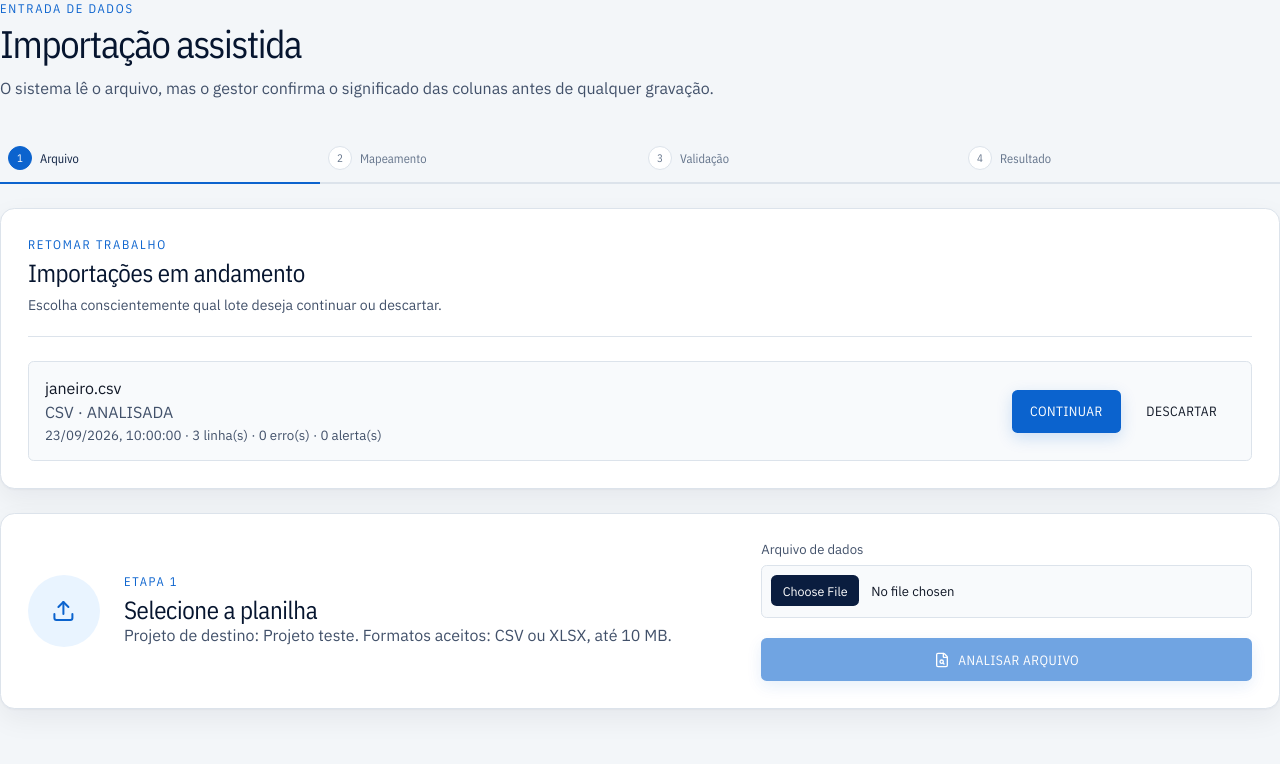
Test: retomada visual da importação › descarta somente após confirmação e remove o lote da lista
This screenshot has width=1280, height=764.
Click the button "DESCARTAR" at (1182, 411), box [1128,390,1235,433]
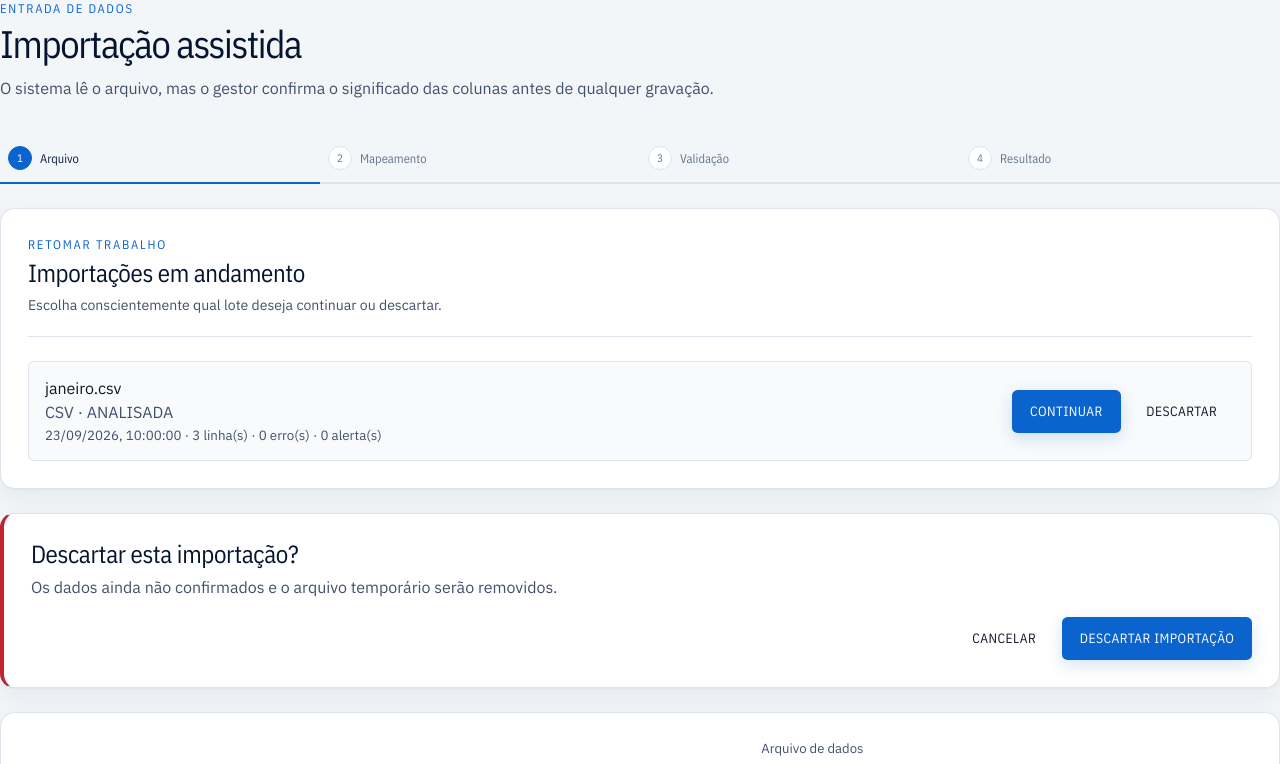
Expected: the heading "Descartar esta importação?" is shown, [31,538,298,570]
Click the button "CANCELAR" at (1004, 638), box [954,617,1054,660]
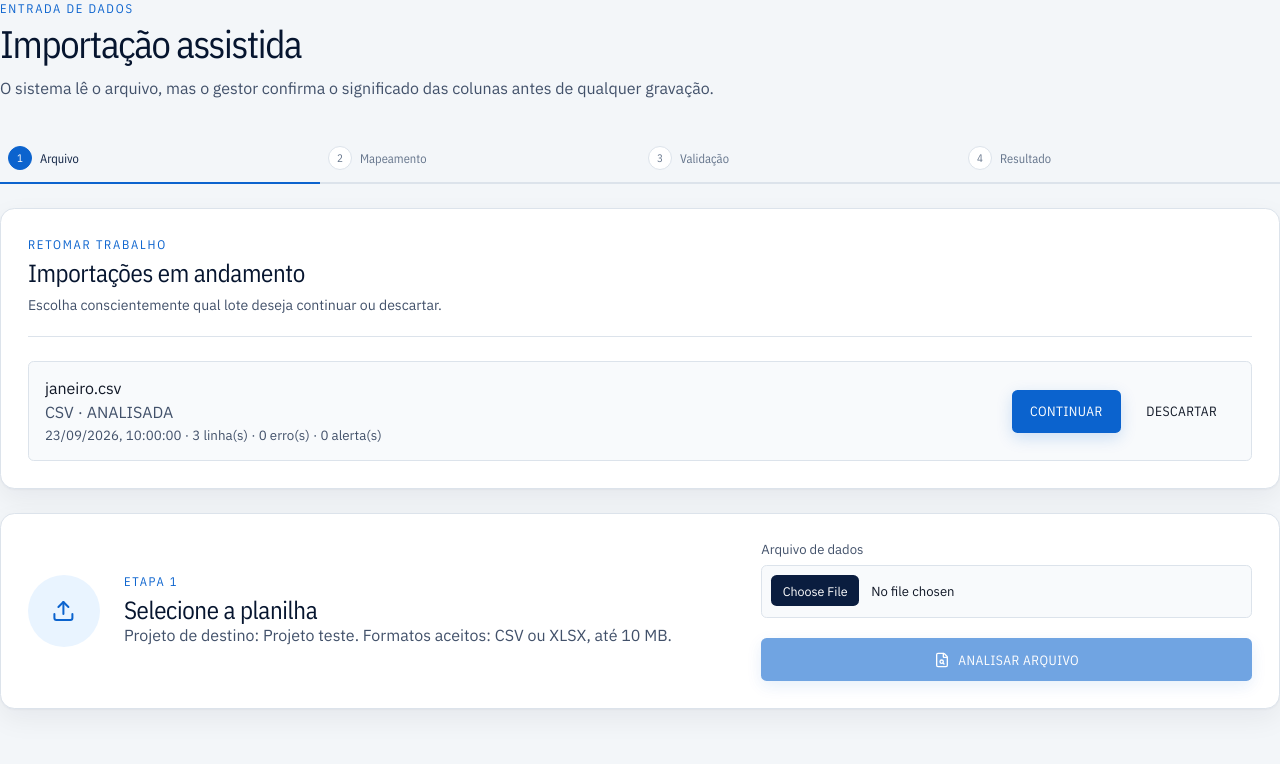
Click the button "DESCARTAR" at (1182, 411), box [1128,390,1235,433]
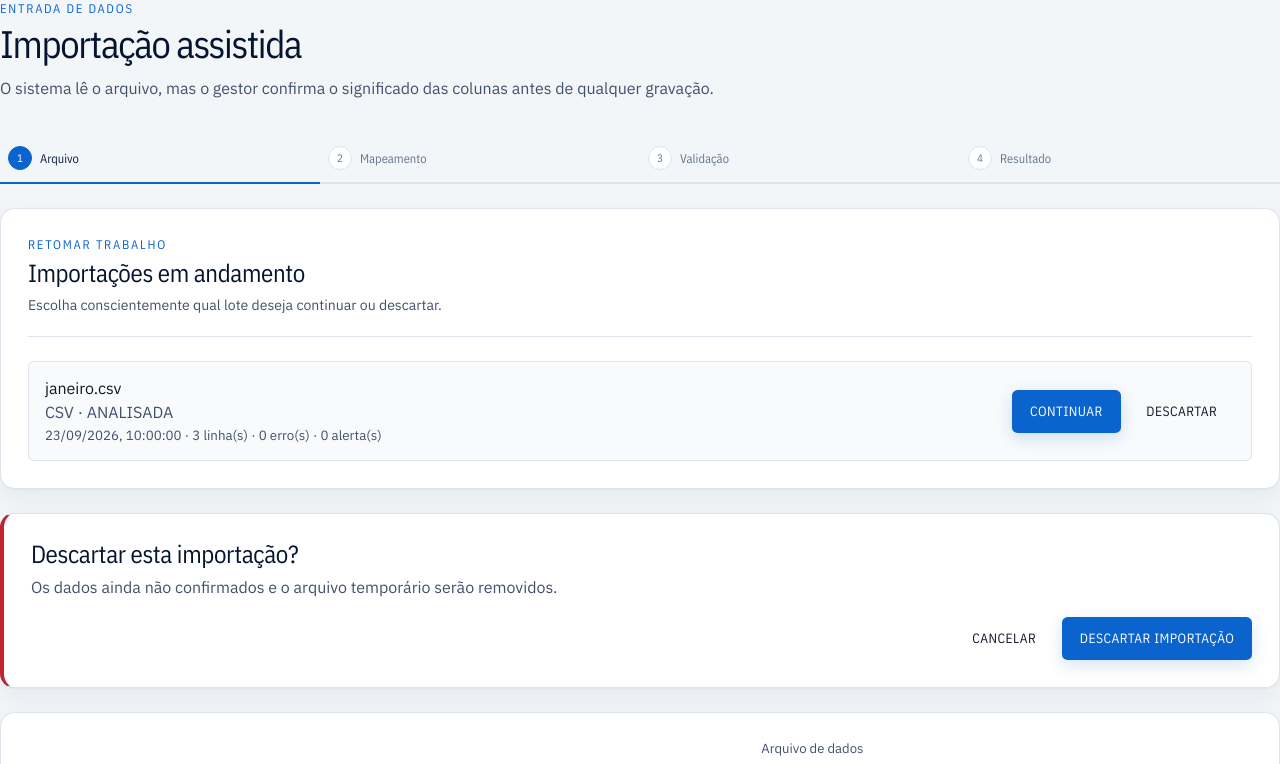
Click the button "DESCARTAR IMPORTAÇÃO" at (1157, 638), box [1062,617,1252,660]
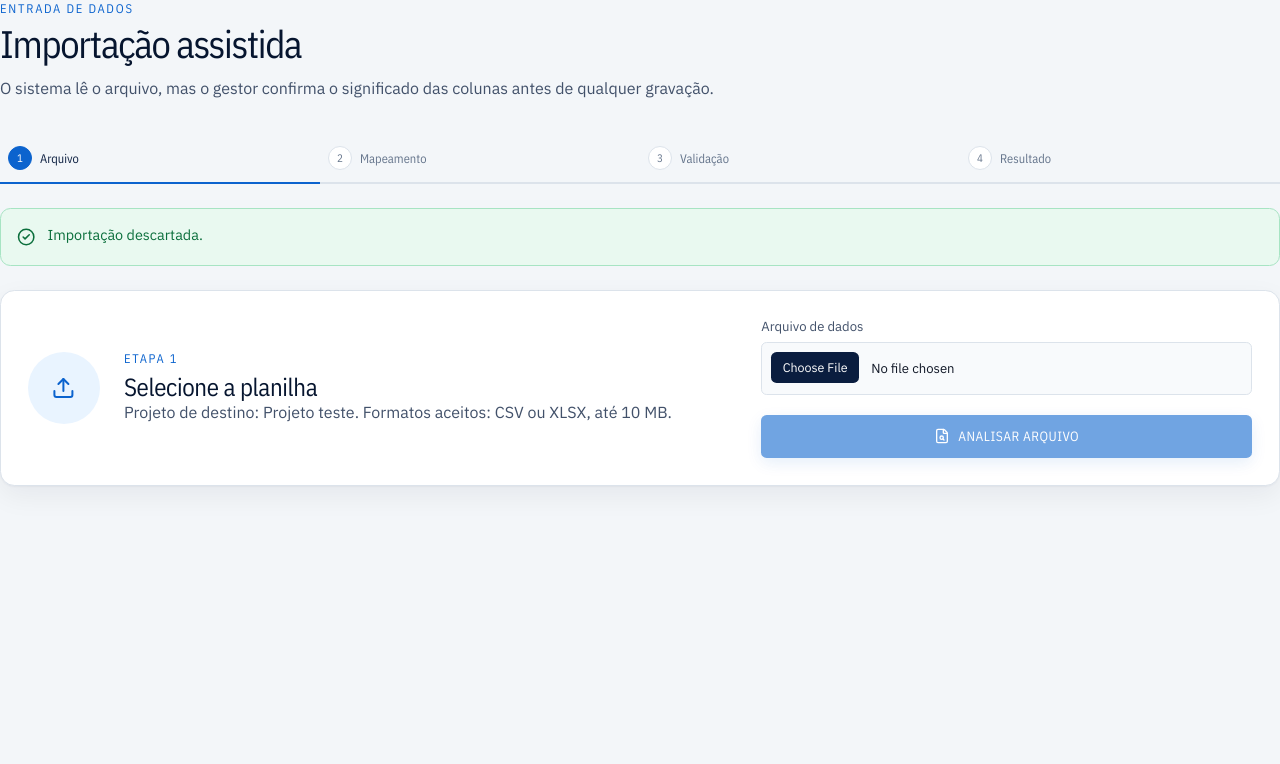
Expected: the file field labelled "Arquivo de dados" is shown, [761,342,1252,395]
Expected: the text "janeiro.csv" is gone
